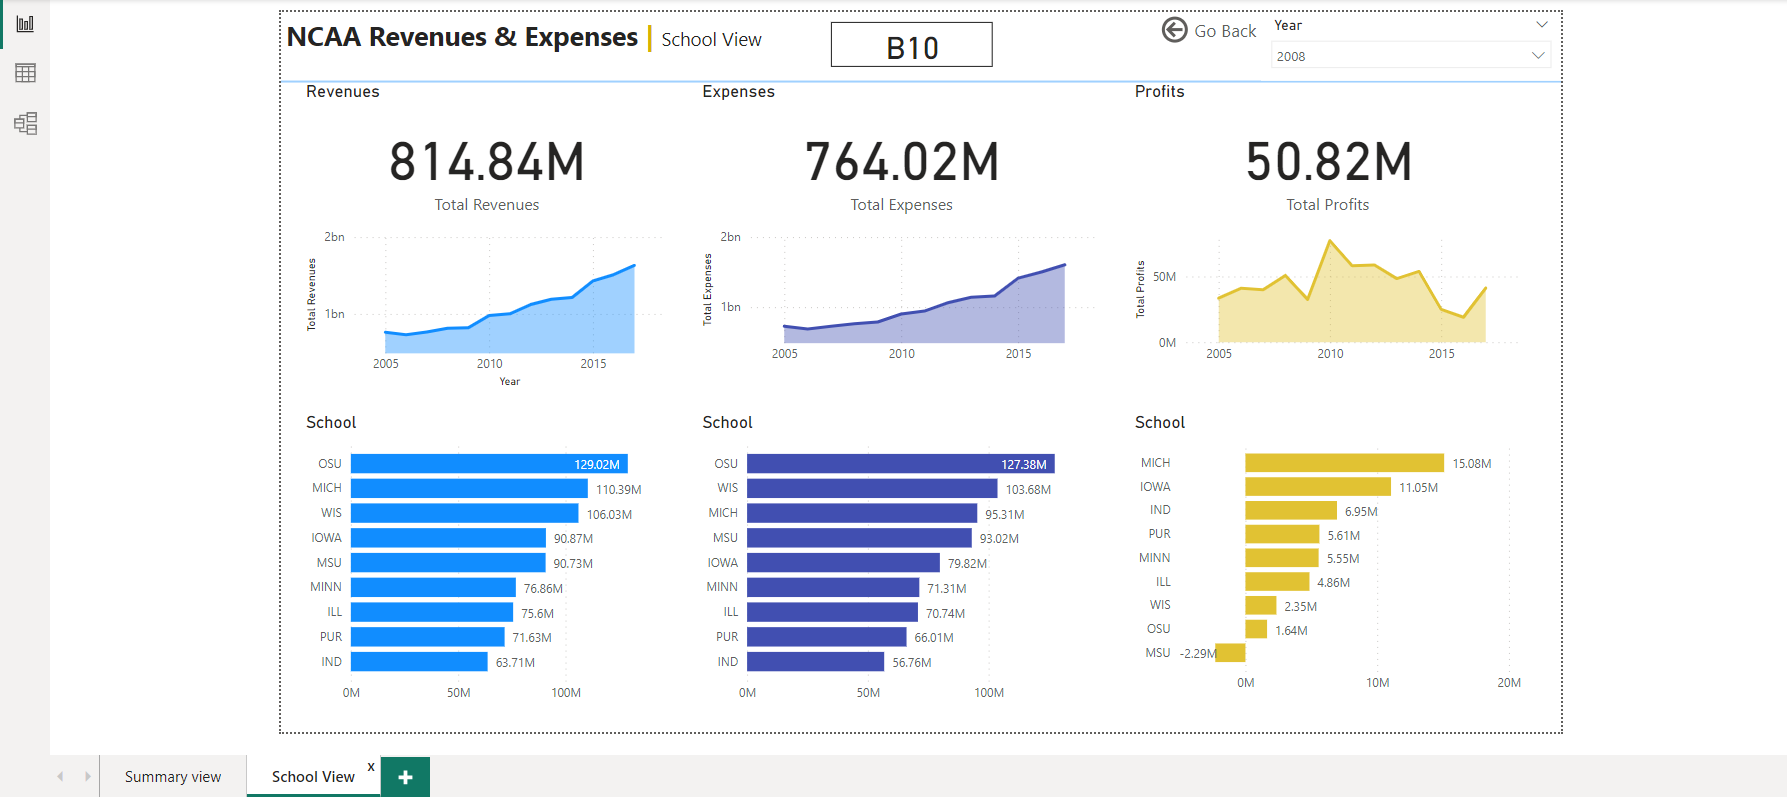

The page's visual inventory and layout, read from the dashboard file:
{"tool":"powerbi","page":{"name":"School View","canvas":[1280,720],"ordinal":1},"visuals":[{"type":"textbox","box":[0,0,630,68.8],"z":0},{"type":"card","title":"Revenues","fields":{"Values":["Sum(finances_fact.Total Revenues)"]},"box":[20,68.8,372.5,150],"z":1000},{"type":"card","title":"Expenses","fields":{"Values":["Sum(finances_fact.Total Expenses)"]},"box":[416.2,68.8,408.8,150],"z":2000},{"type":"card","title":"Profits","fields":{"Values":["Sum(finances_fact.Profits)"]},"box":[848.8,68.8,396.2,150],"z":3000},{"type":"areaChart","title":"Revemues","fields":{"Category":["finances_fact.Year"],"Y":["Sum(finances_fact.Total Revenues)"]},"box":[20,211.2,372.5,168.8],"z":4000},{"type":"areaChart","title":"Expenses","fields":{"Category":["finances_fact.Year"],"Y":["Sum(finances_fact.Total Expenses)"]},"box":[416.2,211.2,408.8,148.8],"z":5000},{"type":"areaChart","title":"Profit","fields":{"Category":["finances_fact.Year"],"Y":["Sum(finances_fact.Profits)"]},"box":[848.8,211.2,396.2,148.8],"z":6000},{"type":"barChart","title":"School","fields":{"Category":["school_dim.School Abb"],"Y":["Sum(finances_fact.Total Revenues)"]},"box":[20,400,371.2,298.8],"z":7000},{"type":"barChart","title":"School","fields":{"Category":["school_dim.School Abb"],"Y":["Sum(finances_fact.Total Expenses)"]},"box":[416.2,400,408.8,298.8],"z":8000},{"type":"barChart","title":"School","fields":{"Category":["school_dim.School Abb"],"Y":["Sum(finances_fact.Profits)"]},"box":[848.8,400,396.2,288.8],"z":9000},{"type":"shape","box":[0,28.8,1280,81.2],"z":10000},{"type":"slicer","fields":{"Values":["finances_fact.Year"]},"box":[980,0,300,68.8],"z":11000},{"type":"actionButton","title":"Go Back","box":[876.7,0,103.3,35],"z":11001},{"type":"card","fields":{"Values":["Min(conference_dim.Conference Abb)"]},"box":[550,10,161.7,45],"z":11002}]}

Visuals, with their boxes on the page's 1280x720 design canvas (x1, y1, x2, y2). These are canvas units, not pixel positions in the 1787x797 screenshot, which may show the page scaled, cropped or inside an application window:
textbox: crop(0, 0, 630, 69)
"Revenues" card: crop(20, 69, 392, 219)
"Expenses" card: crop(416, 69, 825, 219)
"Profits" card: crop(849, 69, 1245, 219)
"Revemues" areaChart: crop(20, 211, 392, 380)
"Expenses" areaChart: crop(416, 211, 825, 360)
"Profit" areaChart: crop(849, 211, 1245, 360)
"School" barChart: crop(20, 400, 391, 699)
"School" barChart: crop(416, 400, 825, 699)
"School" barChart: crop(849, 400, 1245, 689)
shape: crop(0, 29, 1280, 110)
slicer - finances_fact.Year: crop(980, 0, 1280, 69)
"Go Back" actionButton: crop(877, 0, 980, 35)
card - Min(conference_dim.Conference Abb): crop(550, 10, 712, 55)
